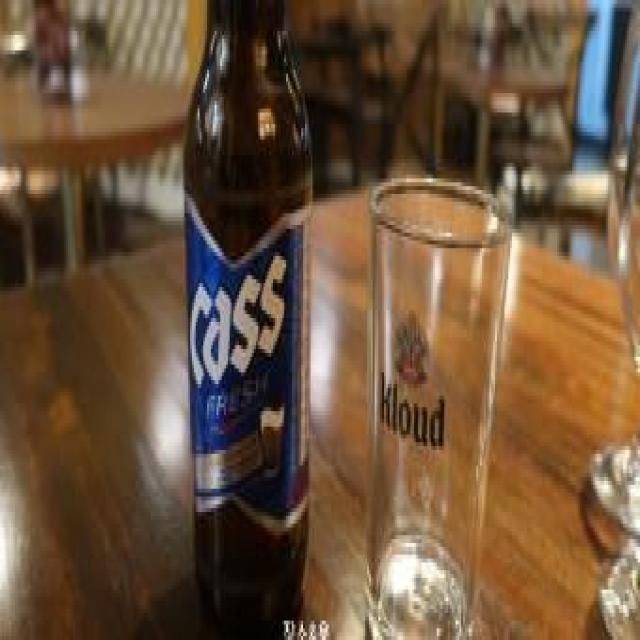beer-bottle: (178, 0, 321, 636)
